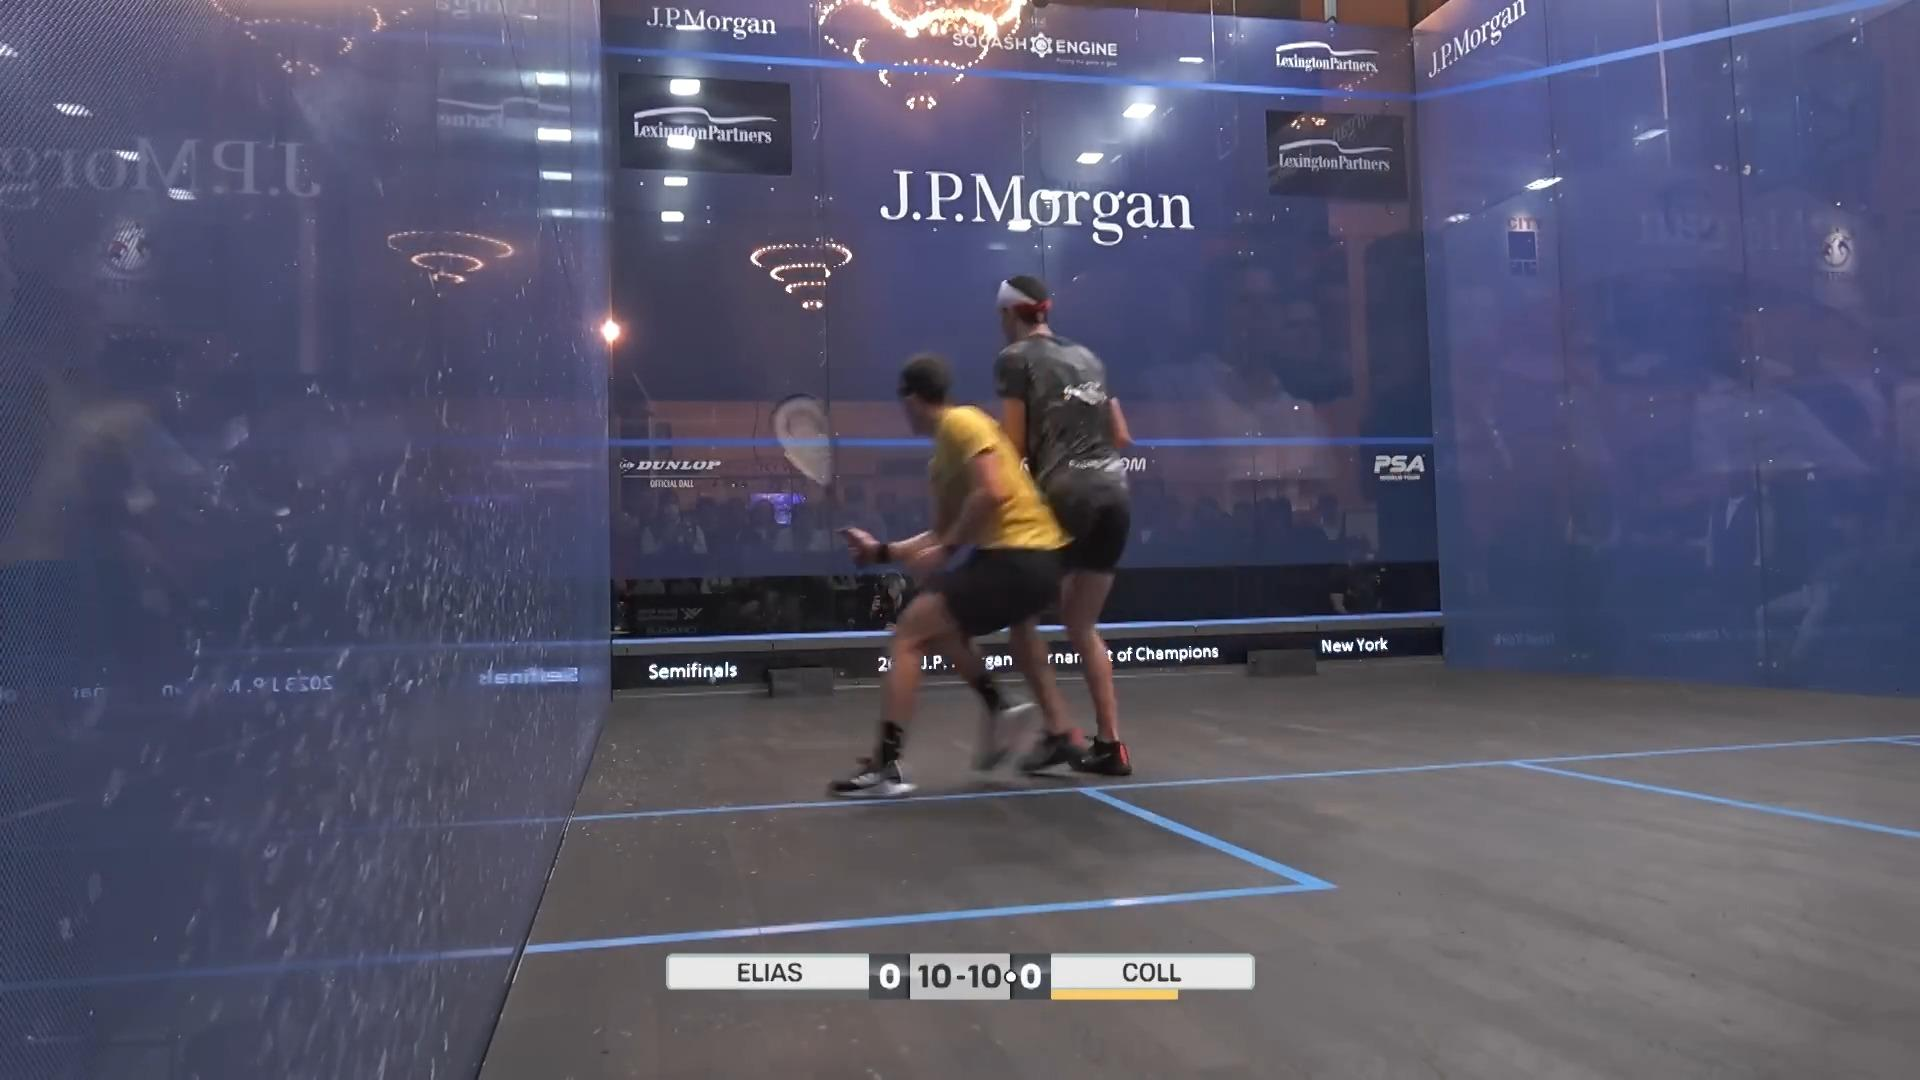Racket: (761, 382, 852, 534)
